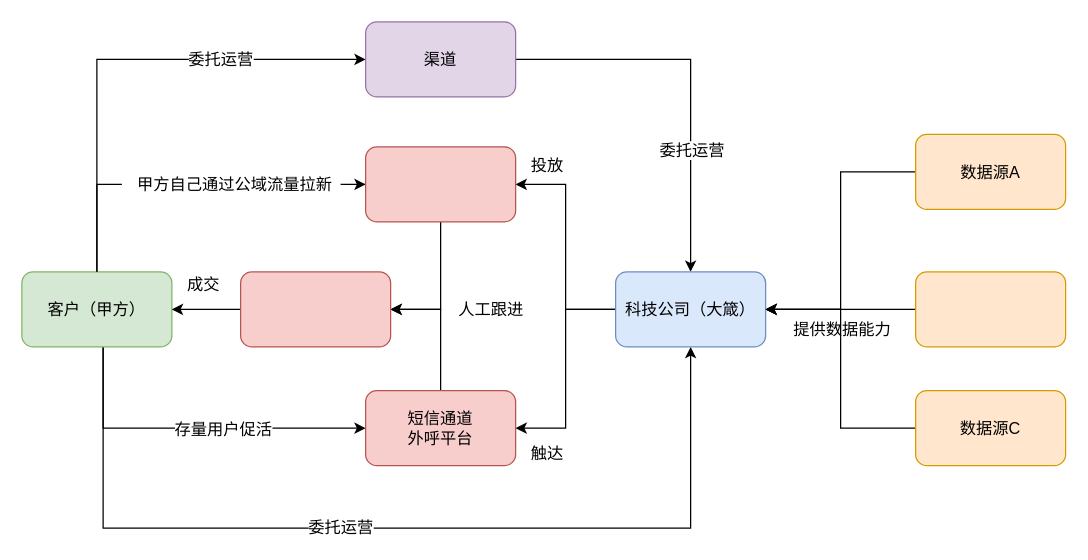
This 1088x560 diagram has some shape labels left out. The box of each missing label's shape, as (x1, y1, x2, y2) in pixels:
TMK: (239, 271, 391, 347)
媒体平台: (364, 146, 516, 222)
数据源B: (914, 271, 1066, 347)
